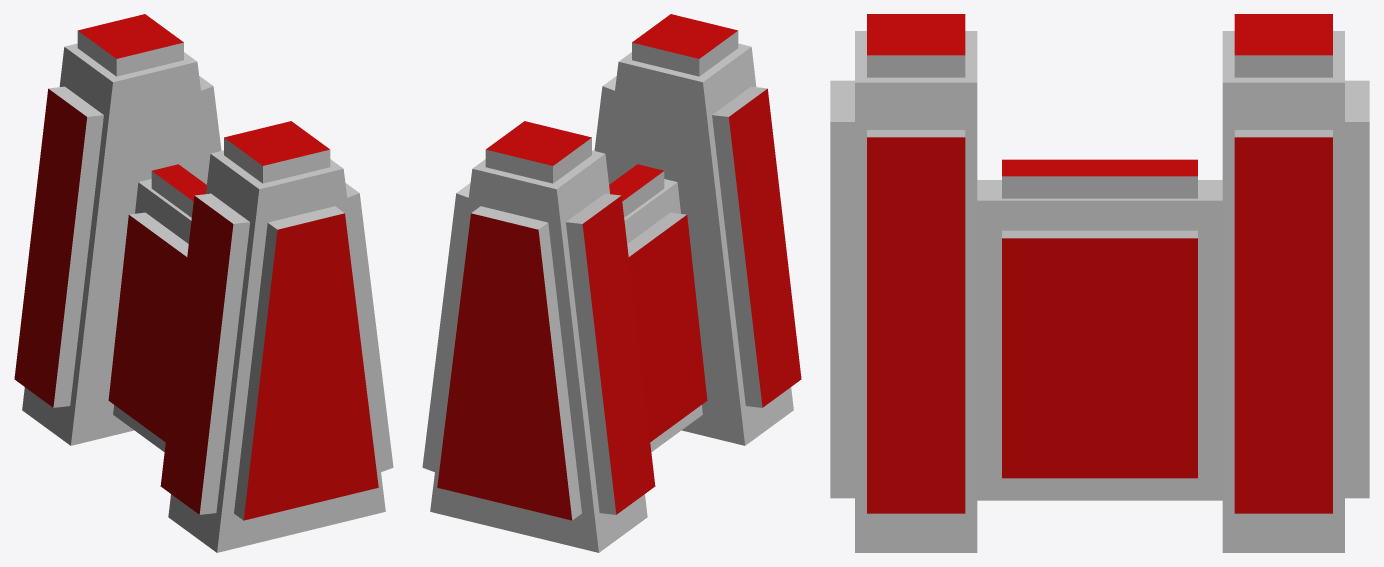
Rendered from Wall.fbx.
3 renders of one model, left to right at view 1: azimuth 30°, elevation 25°; view 2: azimuth 150°, elevation 25°; view 3: azimuth 270°, elevation 25°, orthographic. The views are drawn at different scales.
Parts seen in each view (by area): view 1: Wall; view 2: Wall; view 3: Wall.
Part boxes in pixels (x1,y1,x2,y2): Wall: [14, 14, 393, 552]; Wall: [422, 14, 801, 552]; Wall: [830, 14, 1369, 552].
Bounding box in the file's own units: 115 × 210 × 220.
